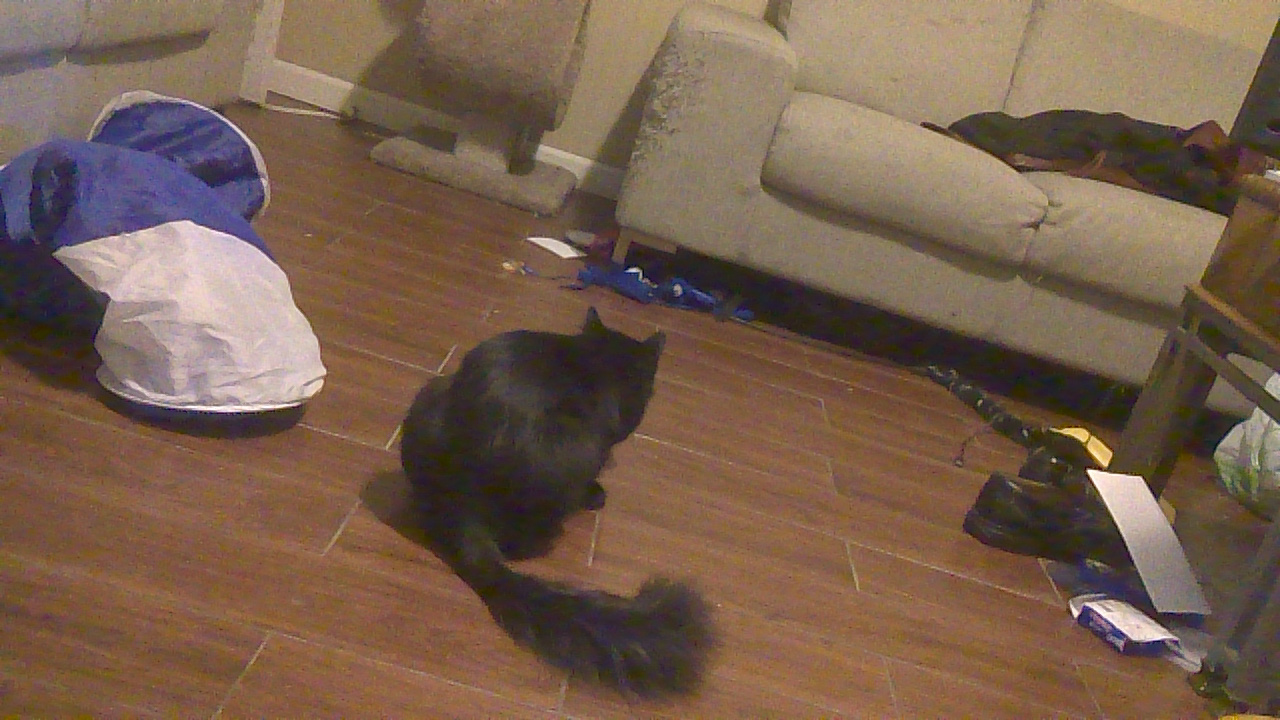cat: (394, 302, 726, 702)
